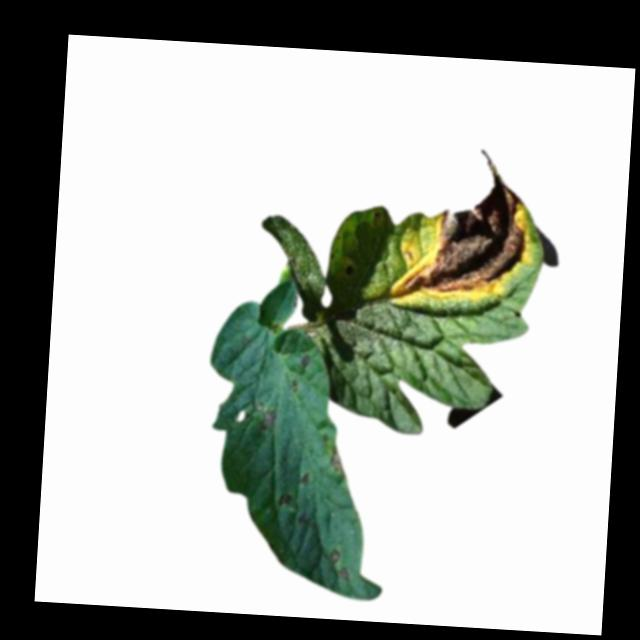Early_blight: (382, 144, 532, 311), (257, 405, 277, 431), (328, 449, 345, 470), (324, 546, 340, 564), (277, 489, 292, 507), (300, 351, 311, 367), (335, 567, 347, 580)
